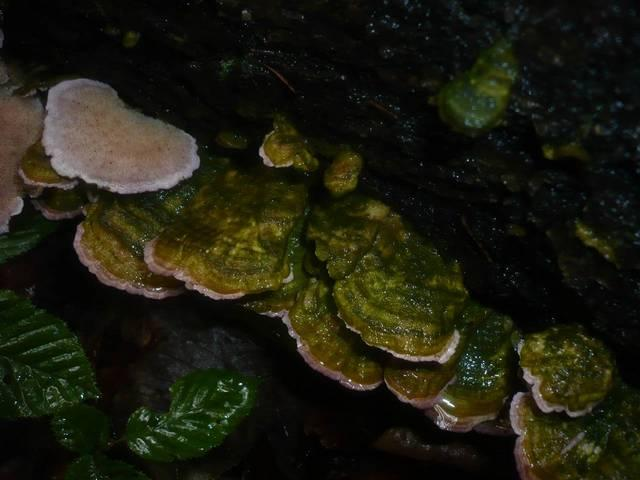poisonous_mushroom: (54, 115, 630, 480), (40, 76, 201, 195)
